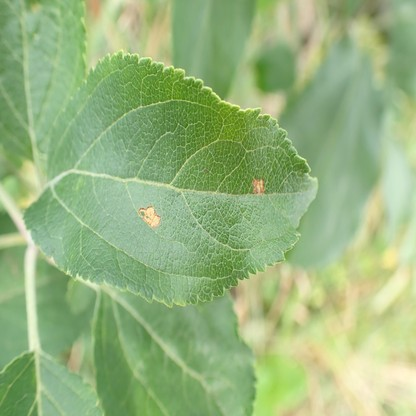frogeye_leaf_spot: (139, 207, 160, 227), (252, 177, 264, 193)
